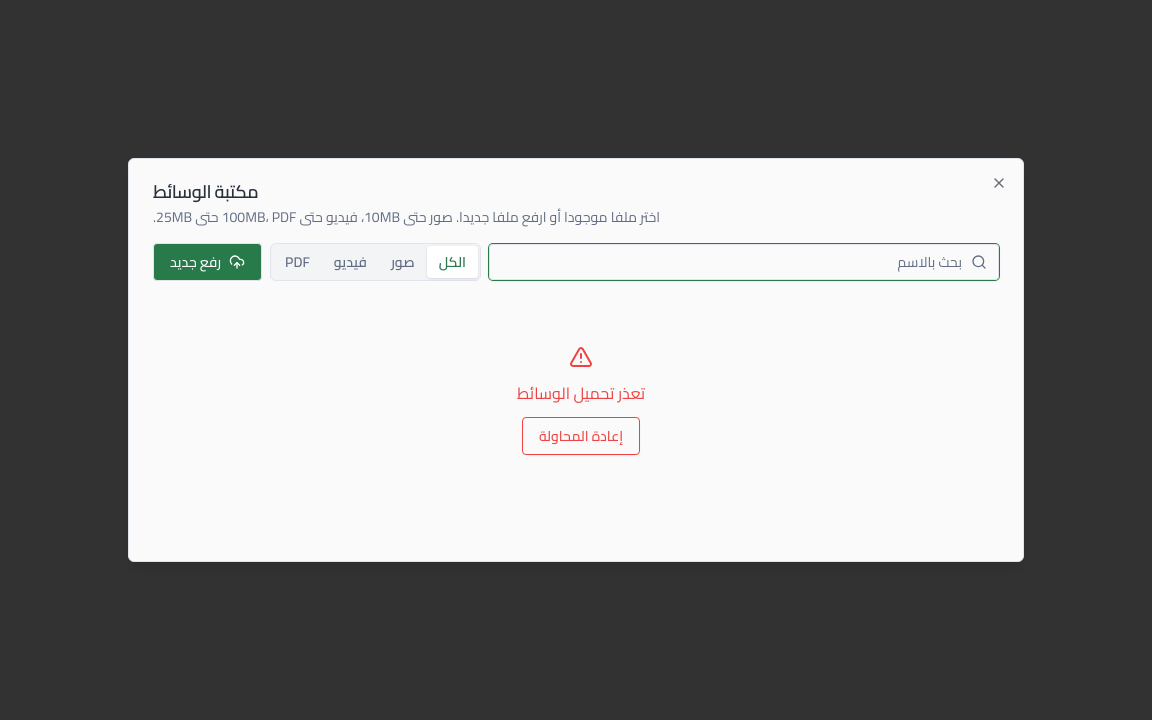
Test: MediaPicker upload UI › shows library failure with retry instead of claiming it is empty
Expected: the text "تعذر تحميل الوسائط" is shown, [517,378,645,408]
Click the button "إعادة المحاولة" at (581, 436), box [522,417,640,455]
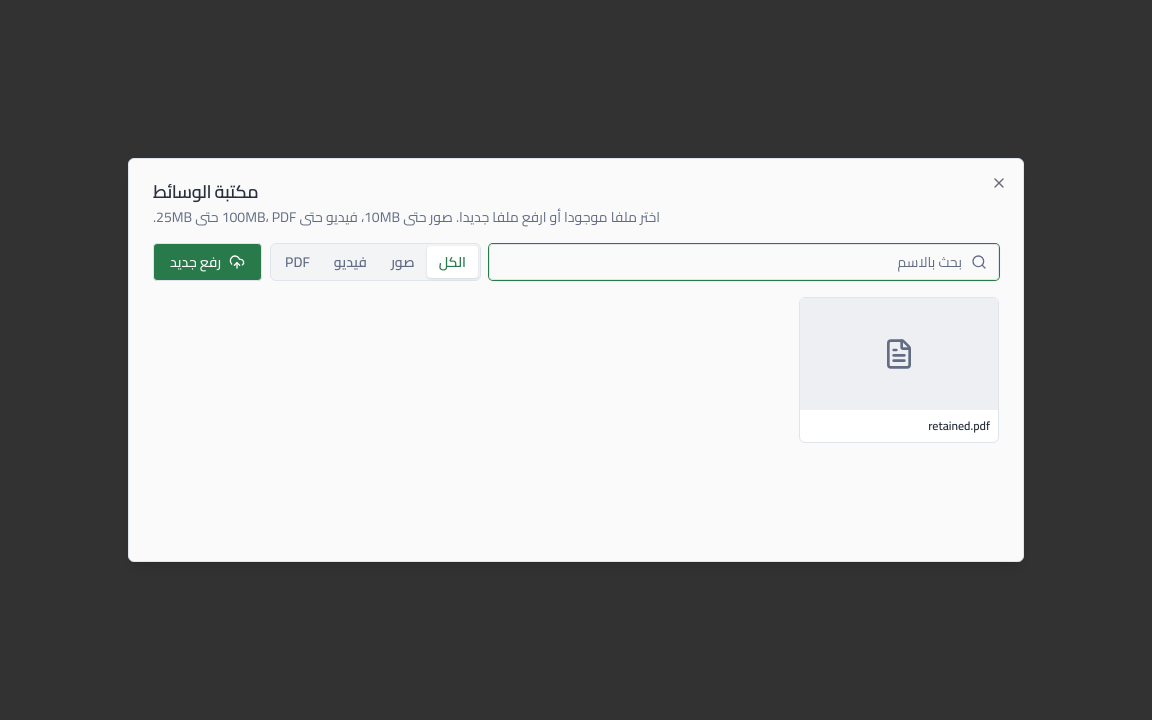
Now the text "retained.pdf" is shown, box [928,414,990,437]
